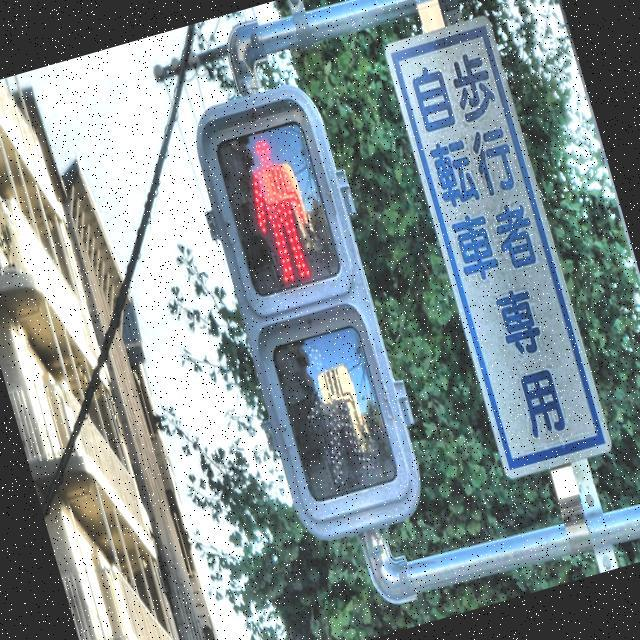red_light: (232, 129, 326, 294)
